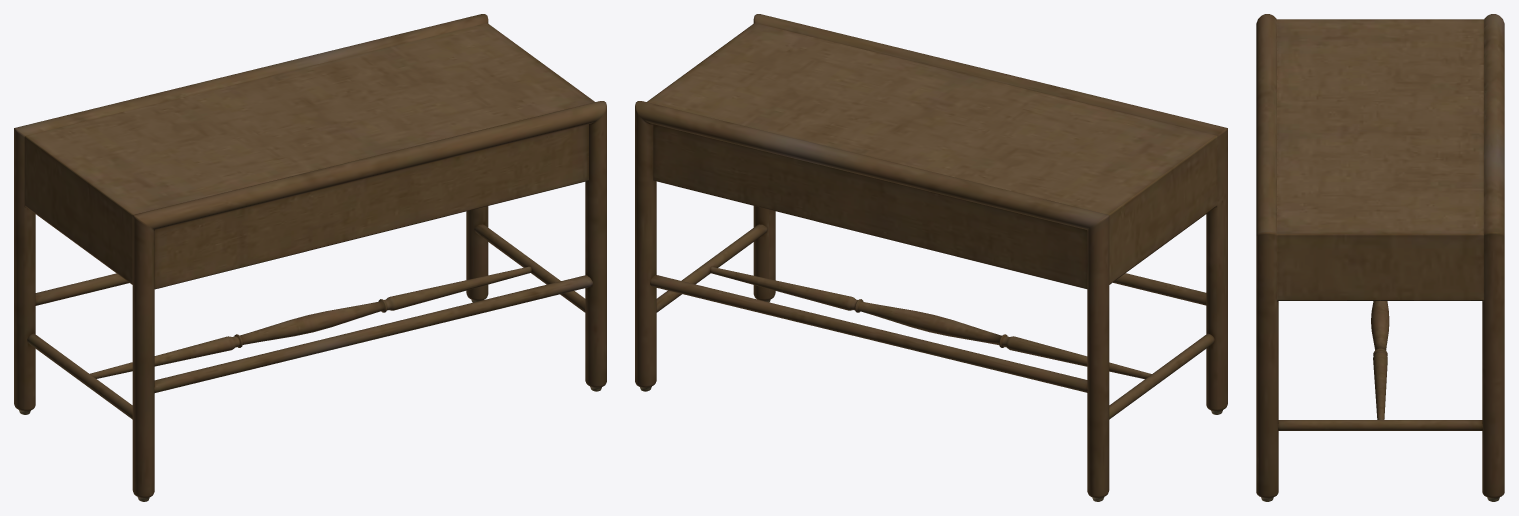
File: small_wooden_table_01.glb
The picture shows the model from 3 angles, left to right: view 1: azimuth 30°, elevation 25°; view 2: azimuth 150°, elevation 25°; view 3: azimuth 270°, elevation 25°; orthographic projection. The views are drawn at different scales.
Parts seen in each view (by area): view 1: small_wooden_table_01; view 2: small_wooden_table_01; view 3: small_wooden_table_01.
Boxes of the visible parts, bbox=[...] form: small_wooden_table_01: bbox=[14, 14, 606, 501]; small_wooden_table_01: bbox=[635, 14, 1227, 501]; small_wooden_table_01: bbox=[1256, 14, 1504, 501].
Bounding box in the file's own units: 0.9162 × 0.5331 × 0.4399.
Materials: 1 (1 with a texture image).
